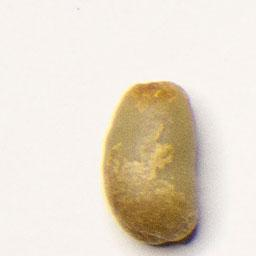longberry: (98, 77, 204, 246)
